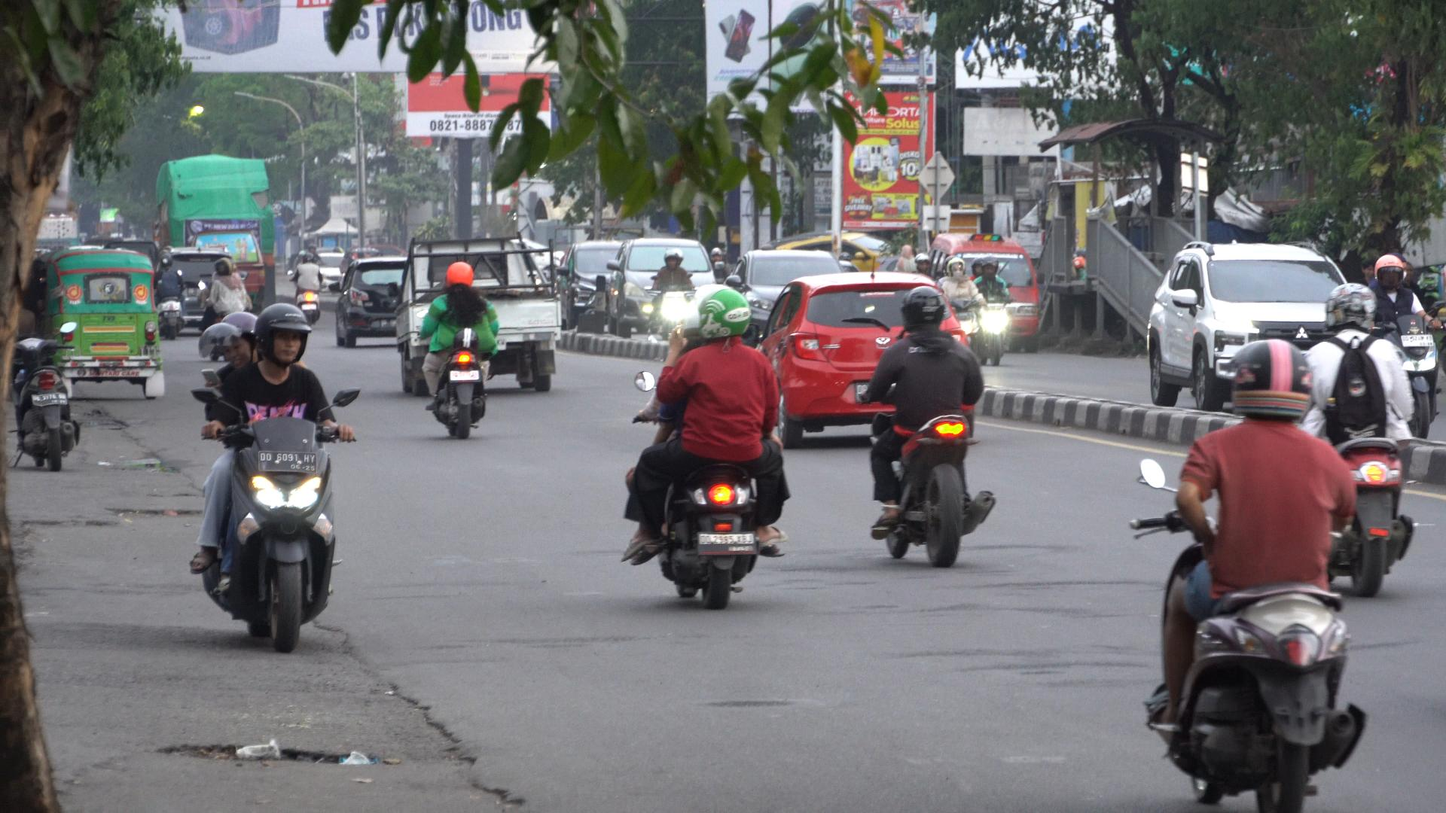number-plate: (254, 449, 318, 475)
